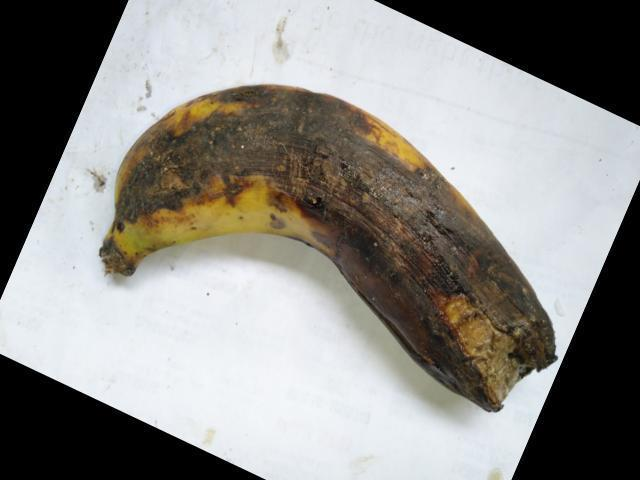rotten: (98, 74, 572, 405)
